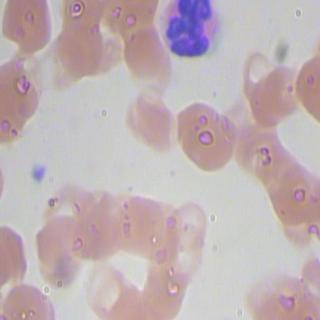Platelets: (23, 158, 49, 186)
RBC: (170, 94, 236, 172), (120, 18, 177, 88), (30, 208, 87, 278), (122, 86, 179, 154), (242, 264, 311, 320), (69, 196, 125, 264), (107, 188, 164, 254), (266, 158, 320, 224), (53, 14, 106, 80), (134, 258, 188, 320), (78, 260, 131, 320), (3, 0, 56, 60), (0, 54, 42, 126), (259, 138, 303, 200), (260, 60, 304, 120), (239, 72, 283, 132), (231, 114, 275, 174), (249, 126, 293, 186), (0, 278, 54, 320), (169, 196, 207, 254), (167, 232, 205, 290), (109, 278, 157, 320)
WBC: (156, 0, 226, 60)
